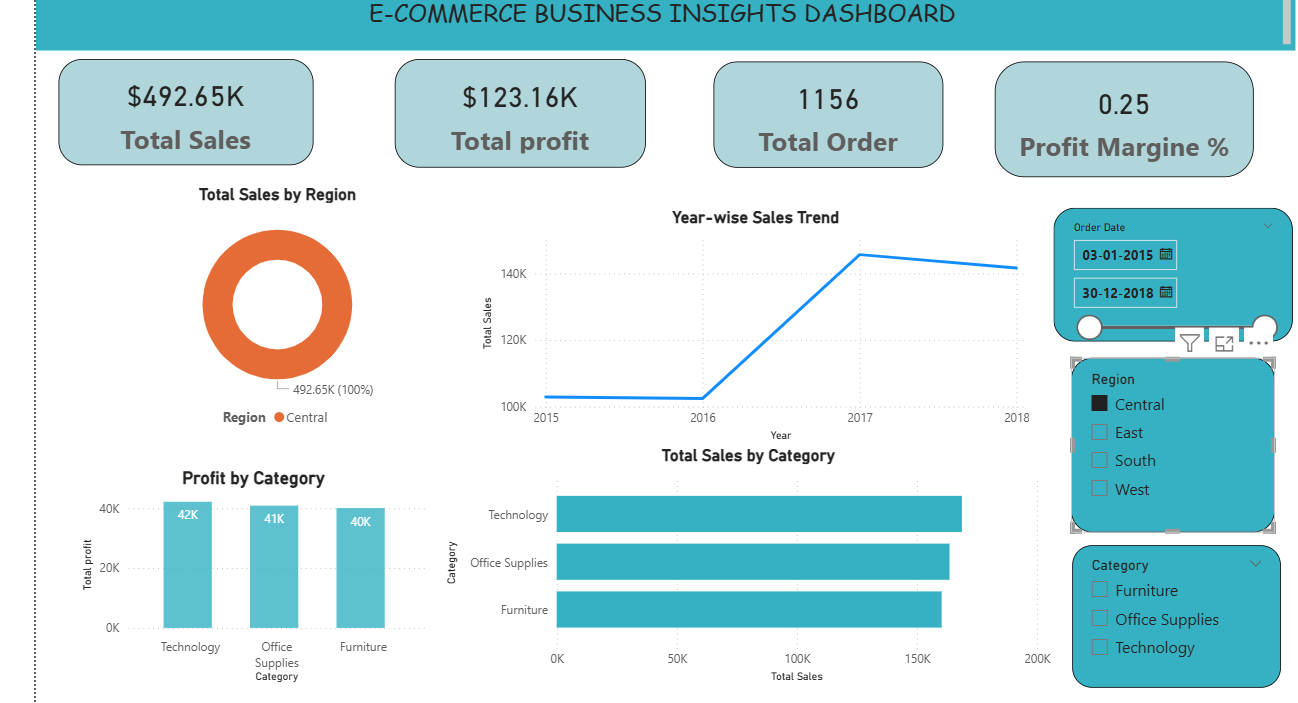

The page's visual inventory and layout, read from the dashboard file:
{"tool":"powerbi","page":{"name":"Dashboard ","canvas":[1296,748],"ordinal":6},"visuals":[{"type":"card","fields":{"Values":["train.Total Sales"]},"box":[23.2,81.9,259.2,107.6],"z":0},{"type":"card","fields":{"Values":["train.Total profit"]},"box":[364.4,81.9,255.6,110.1],"z":1000},{"type":"card","fields":{"Values":["train.Total Order"]},"box":[688.5,84.4,233.6,107.6],"z":2000},{"type":"card","fields":{"Values":["train.Profit Margine %"]},"box":[974.6,84.4,262.9,117.4],"z":2001},{"type":"lineChart","title":"Year-wise Sales Trend","fields":{"Y":["train.Total Sales"],"Category":["train.Order Date.Variation.Date Hierarchy.Year","train.Order Date.Variation.Date Hierarchy.Quarter","train.Order Date.Variation.Date Hierarchy.Month","train.Order Date.Variation.Date Hierarchy.Day"]},"box":[448.8,232.3,566.2,242.1],"z":2002},{"type":"donutChart","fields":{"Category":["train.Region"],"Y":["train.Total Sales"]},"box":[41.6,207.9,407.2,255.6],"z":2003},{"type":"clusteredBarChart","fields":{"Y":["train.Total Sales"],"Category":["train.Category"]},"box":[412.1,474.5,624.9,245.8],"z":2004},{"type":"clusteredColumnChart","title":"Profit by Category","fields":{"Category":["train.Category"],"Y":["train.Total profit"]},"box":[41.6,496.5,358.3,223.8],"z":2005},{"type":"slicer","fields":{"Values":["train.Category"]},"box":[1053.2,575.5,212.2,144.8],"z":2006},{"type":"slicer","fields":{"Values":["train.Region"]},"box":[1051.9,384.9,207.1,177.9],"z":2007},{"type":"slicer","fields":{"Values":["train.Order Date"]},"box":[1034.5,232.3,243.3,135.7],"z":2008},{"type":"textbox","box":[0,12.2,1280.3,59.9],"z":2009}]}

Visuals, with their boxes on the page's 1296x748 design canvas (x1, y1, x2, y2). These are canvas units, not pixel positions in the 1298x703 screenshot, which may show the page scaled, cropped or inside an application window:
card - train.Total Sales: crop(23, 82, 282, 190)
card - train.Total profit: crop(364, 82, 620, 192)
card - train.Total Order: crop(688, 84, 922, 192)
card - train.Profit Margine %: crop(975, 84, 1238, 202)
"Year-wise Sales Trend" lineChart: crop(449, 232, 1015, 474)
donutChart - train.Region x train.Total Sales: crop(42, 208, 449, 464)
clusteredBarChart - train.Total Sales x train.Category: crop(412, 474, 1037, 720)
"Profit by Category" clusteredColumnChart: crop(42, 496, 400, 720)
slicer - train.Category: crop(1053, 576, 1265, 720)
slicer - train.Region: crop(1052, 385, 1259, 563)
slicer - train.Order Date: crop(1034, 232, 1278, 368)
textbox: crop(0, 12, 1280, 72)
